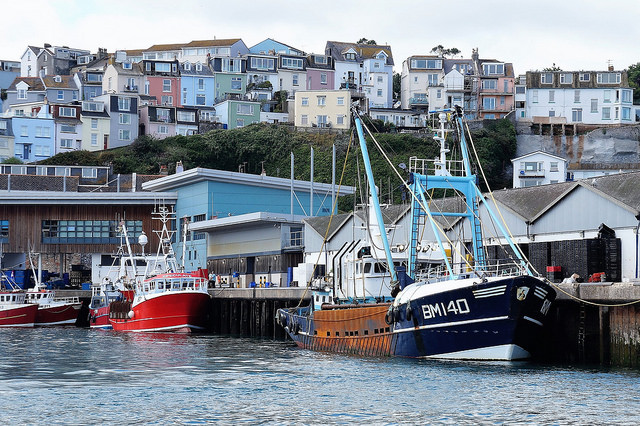fishing_boat: (272, 109, 555, 369), (109, 214, 214, 330)
